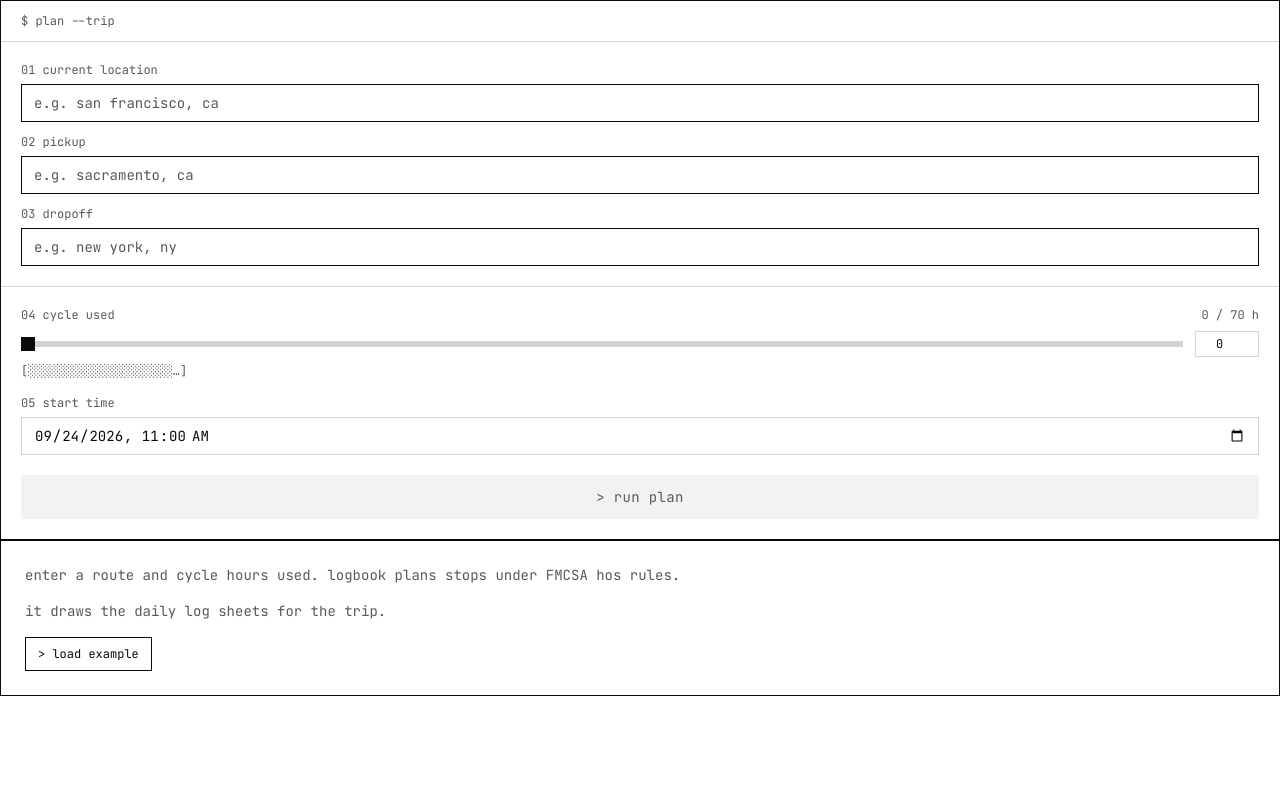
it: TripIntro › fills the trip form when load example is clicked
The image size is (1280, 800).
Click the button "> load example". click: (88, 654)
box: top-left (25, 637), bottom-right (152, 671)
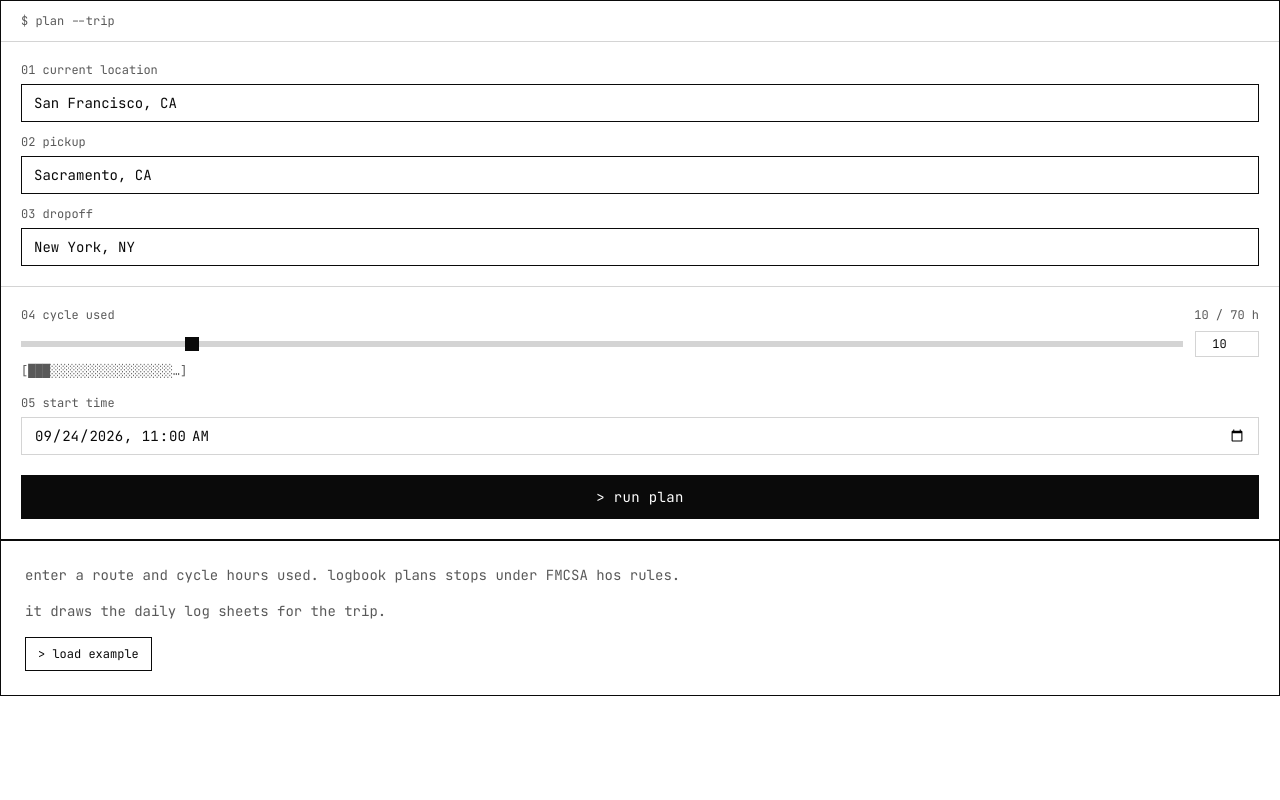
Expected: the dropdown with placeholder "e.g. san francisco, ca" holds "San Francisco, CA", top-left (34, 93), bottom-right (1246, 113)
Expected: the dropdown with placeholder "e.g. sacramento, ca" holds "Sacramento, CA", top-left (34, 165), bottom-right (1246, 185)
Expected: the dropdown with placeholder "e.g. new york, ny" holds "New York, NY", top-left (34, 237), bottom-right (1246, 257)
